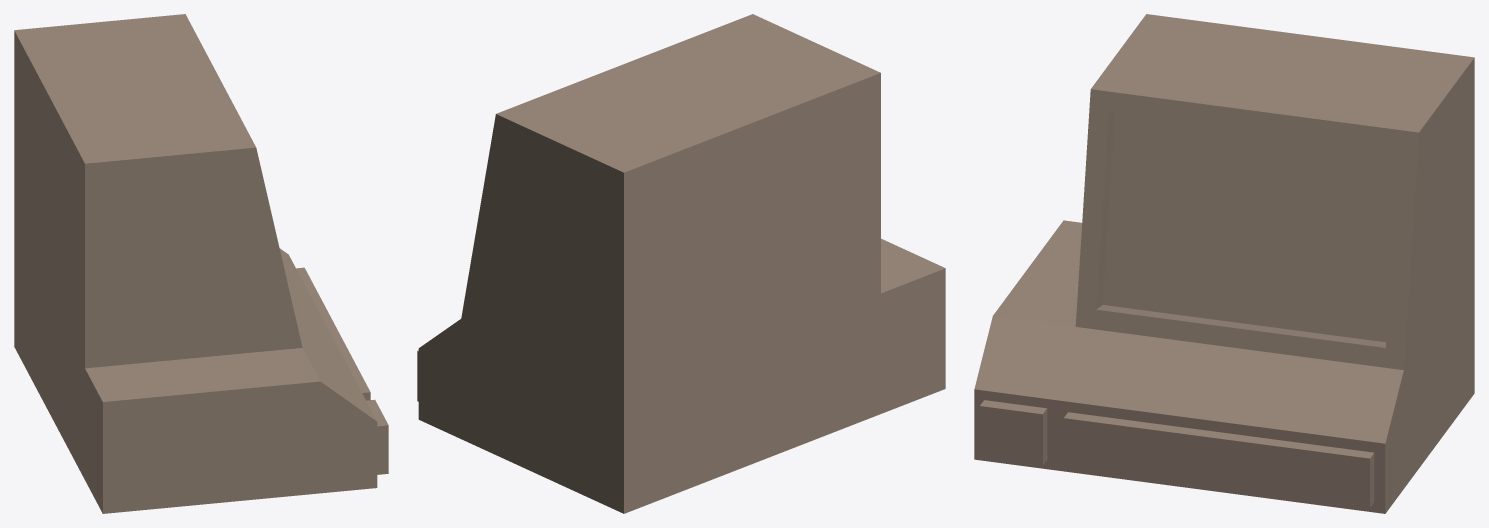
The model's file is cash register proto.fbx.
3 views of the same model, side by side, from view 1: azimuth 30°, elevation 25°; view 2: azimuth 150°, elevation 25°; view 3: azimuth 270°, elevation 25° (orthographic). The views are drawn at different scales.
Visible parts, largest first — view 1: cashier thing; view 2: cashier thing; view 3: cashier thing.
Boxes of the visible parts, bbox=[...] form: cashier thing: bbox=[14, 14, 388, 513]; cashier thing: bbox=[417, 14, 945, 513]; cashier thing: bbox=[974, 14, 1474, 513].
Size of the model in its own units: 173 by 151 by 204.
